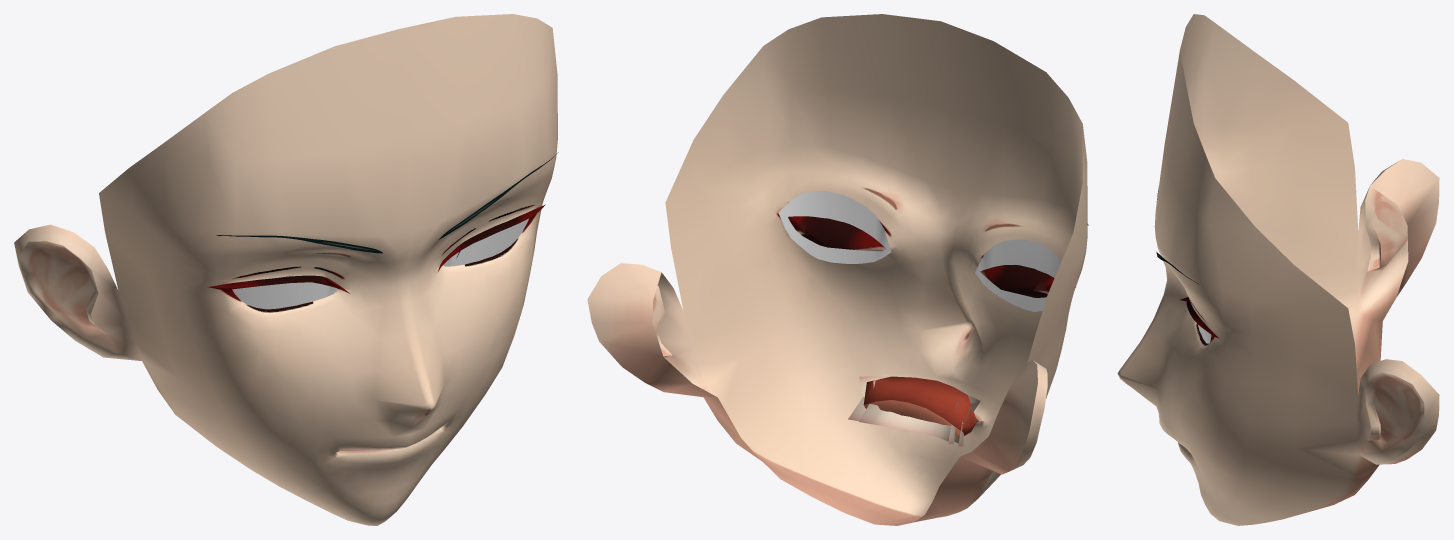
Rendered from Mika.fbx.
3 views of the same model, side by side, from view 1: azimuth 30°, elevation 25°; view 2: azimuth 150°, elevation 25°; view 3: azimuth 270°, elevation 25° (orthographic). The views are drawn at different scales.
Visible parts, largest first — view 1: M_Head, M_Eye_B_Def, M_Mth_B_Def, M_PupALL_R_A_Def, M_PupALL_L_A_Def, M_Brw_B_Def; view 2: M_Head, M_Eye_B_Def, M_Mth_B_Def, M_PupALL_L_A_Def, M_PupALL_R_A_Def; view 3: M_Head, M_Eye_B_Def, M_Mth_B_Def.
Part boxes in pixels (box(x1,y1,x2,y2)): M_Head: box(14, 14, 557, 380); M_Eye_B_Def: box(135, 140, 557, 409); M_Mth_B_Def: box(142, 345, 510, 525); M_PupALL_R_A_Def: box(232, 282, 338, 309); M_PupALL_L_A_Def: box(443, 218, 528, 266); M_Brw_B_Def: box(216, 152, 558, 253); M_Head: box(587, 14, 1087, 474); M_Eye_B_Def: box(698, 145, 1087, 398); M_Mth_B_Def: box(703, 323, 1024, 525); M_PupALL_L_A_Def: box(778, 191, 891, 263); M_PupALL_R_A_Def: box(975, 239, 1060, 311); M_Head: box(1154, 14, 1439, 464); M_Eye_B_Def: box(1117, 125, 1297, 448); M_Mth_B_Def: box(1118, 313, 1382, 525).
Bounding box in the file's own units: 0.1761 × 0.1765 × 0.109.
Materials: 5 (3 with a texture image).
